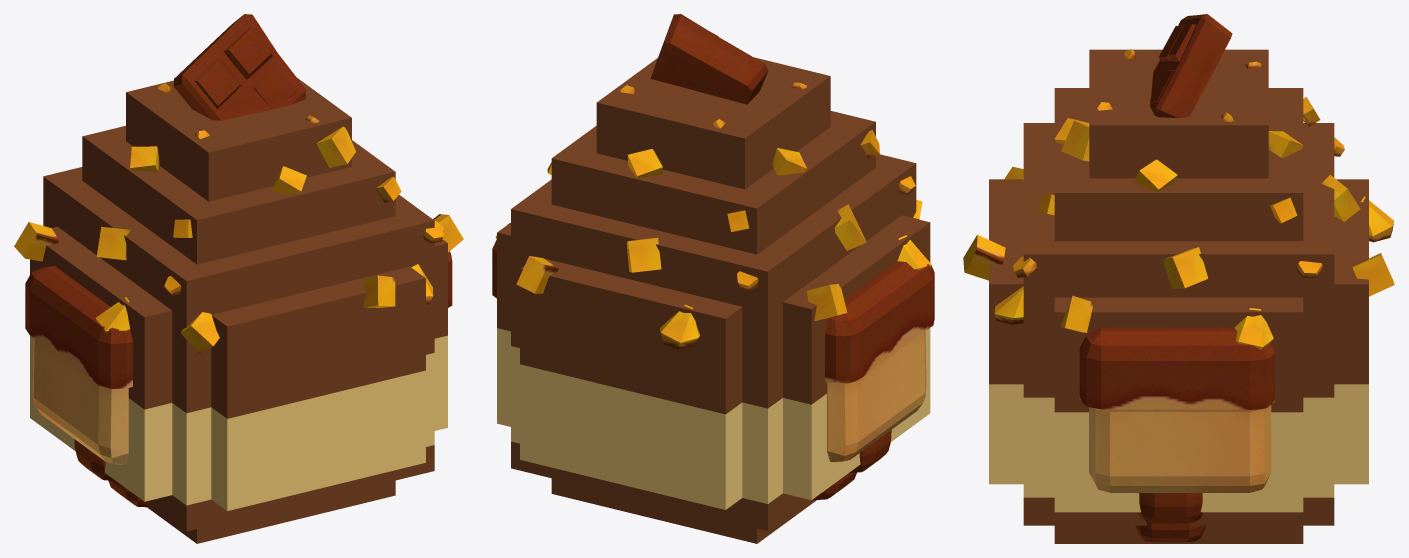
Rendered from Trung chocolate.fbx.
The picture shows the model from 3 angles, left to right: view 1: azimuth 30°, elevation 25°; view 2: azimuth 150°, elevation 25°; view 3: azimuth 270°, elevation 25°; orthographic projection. The views are drawn at different scales.
Parts seen in each view (by area): view 1: Trung_Chocolate; view 2: Trung_Chocolate; view 3: Trung_Chocolate.
Part boxes in pixels (bbox=[...]): Trung_Chocolate: bbox=[14, 14, 463, 543]; Trung_Chocolate: bbox=[492, 14, 934, 543]; Trung_Chocolate: bbox=[963, 14, 1394, 543].
Size of the model in its own units: 3.35 by 4.08 by 3.28.
